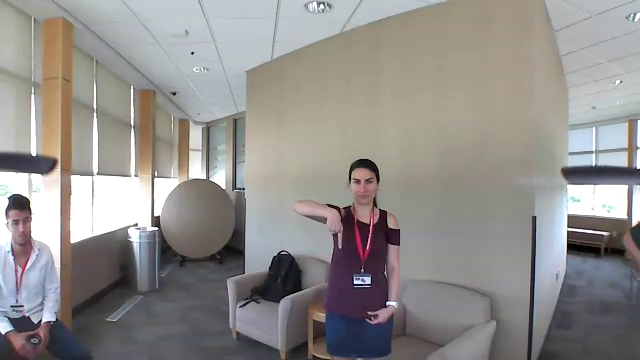down: (319, 207, 347, 253)
